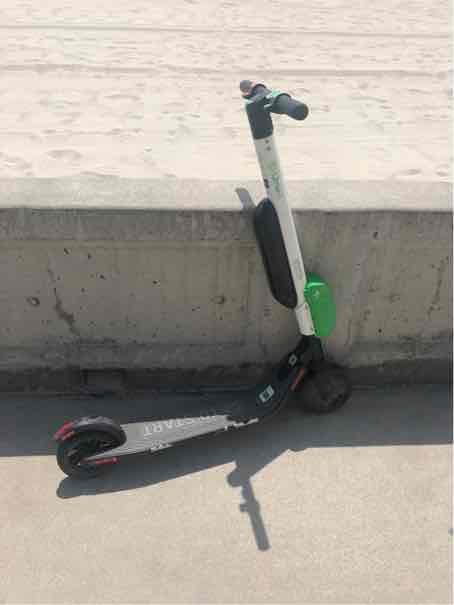scooter: (45, 73, 361, 483)
